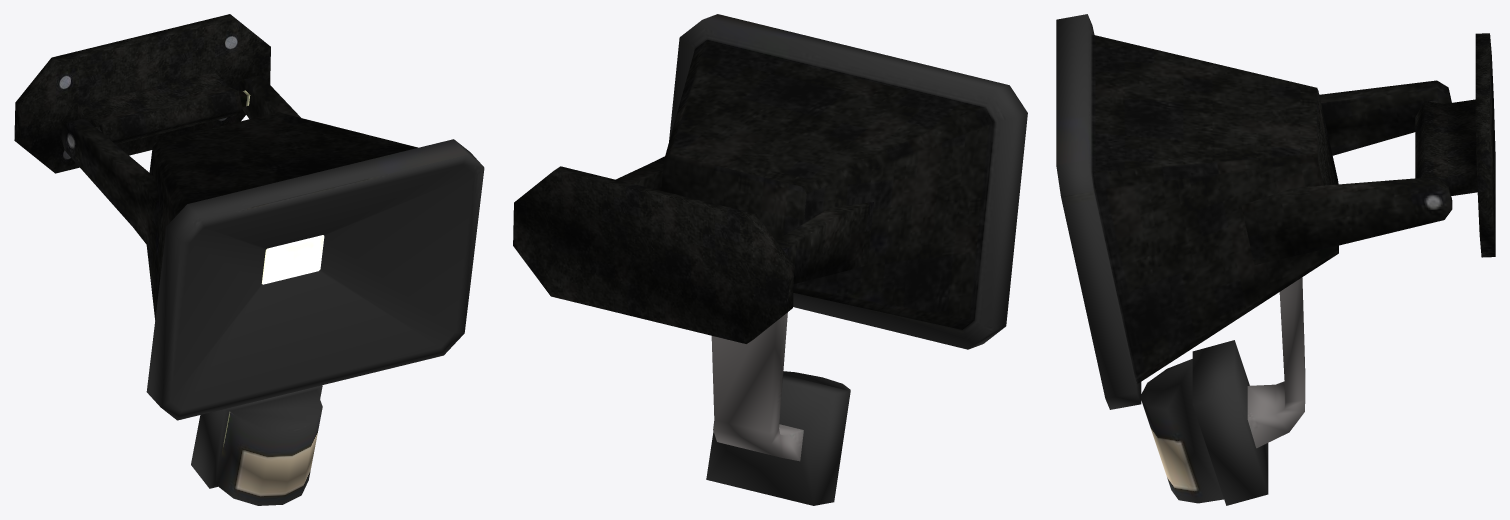
The model's file is wall_lamp.glb.
3 renders of one model, left to right at view 1: azimuth 30°, elevation 25°; view 2: azimuth 150°, elevation 25°; view 3: azimuth 270°, elevation 25°, orthographic. The views are drawn at different scales.
Visible parts, largest first — view 1: wall_lamp; view 2: wall_lamp; view 3: wall_lamp.
Part boxes in pixels (box(x1,y1,x2,y2)): wall_lamp: box(14, 14, 484, 505); wall_lamp: box(513, 14, 1027, 505); wall_lamp: box(1056, 14, 1495, 505).
Bounding box in the file's own units: 0.1962 × 0.225 × 0.2195.
Materials: 2 (2 with a texture image).
